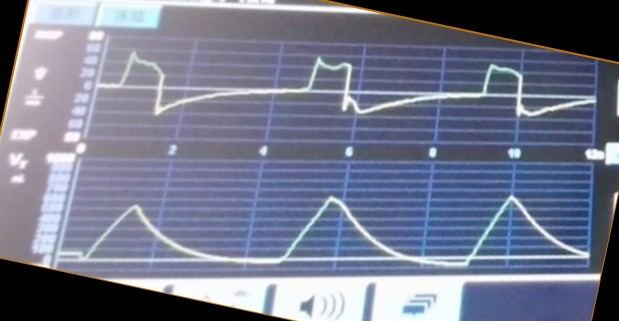Premature_cycling Flow: (107, 49, 559, 142)
Premature_cycling Volume: (71, 192, 589, 271)
